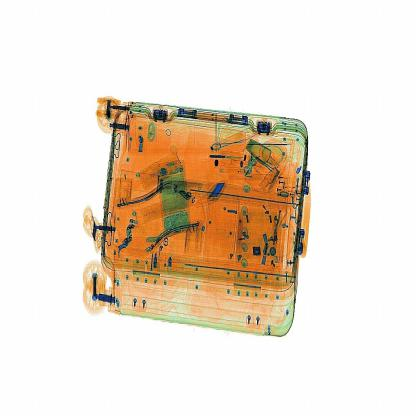pliers: (192, 172, 233, 214)
